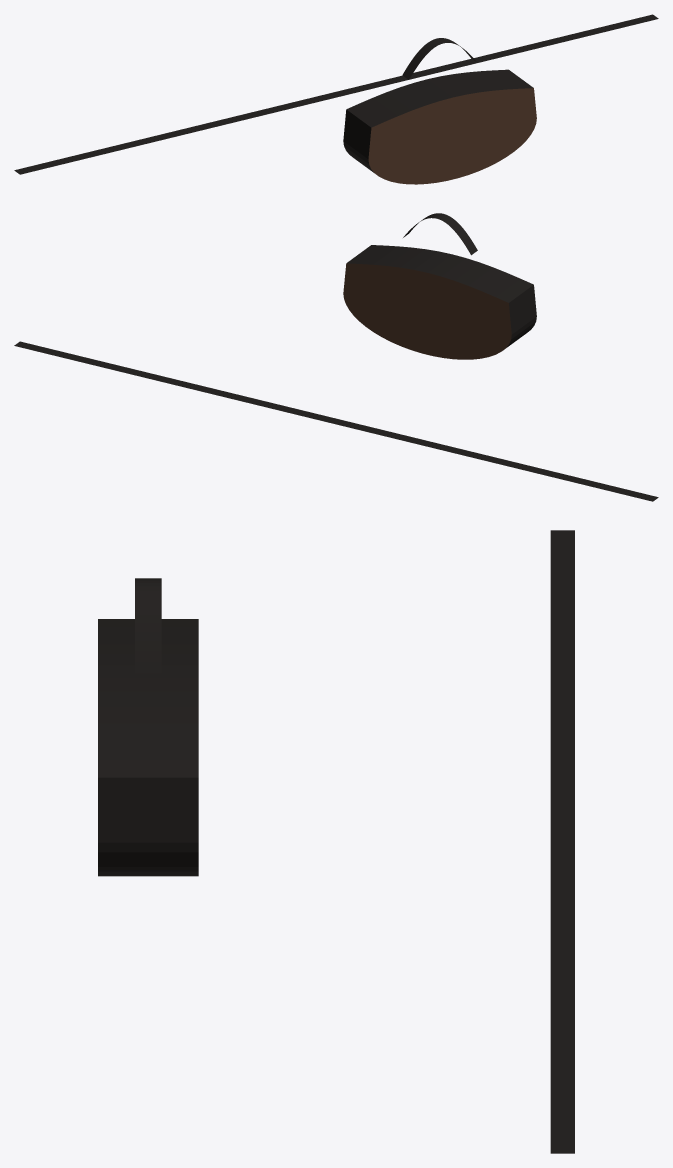
File: the-313.glb
3 renders of one model, top to bottom at view 1: azimuth 30°, elevation 25°; view 2: azimuth 150°, elevation 25°; view 3: azimuth 270°, elevation 25°, orthographic. The views are drawn at different scales.
Visible parts, largest first — view 1: CrescentBody, CrossbodyStrap, ShoulderStrap; view 2: CrescentBody, CrossbodyStrap, ShoulderStrap; view 3: CrescentBody, CrossbodyStrap, ShoulderStrap.
Part boxes in pixels (x1,y1,x2,y2): CrescentBody: (343,69,536,184); CrossbodyStrap: (14,14,658,174); ShoulderStrap: (402,38,477,79); CrescentBody: (343,245,536,359); CrossbodyStrap: (14,341,658,501); ShoulderStrap: (403,213,477,255); CrescentBody: (98,619,198,876); CrossbodyStrap: (550,530,574,1153); ShoulderStrap: (135,578,161,673).
Size of the model in its own units: 1.1 by 0.213 by 0.3555.
